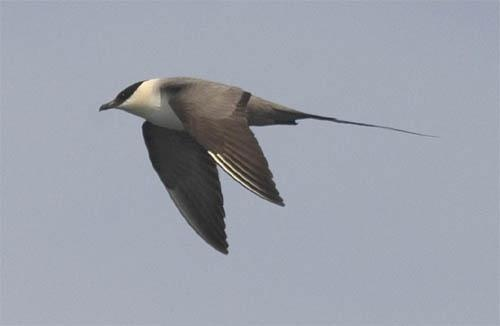bird: (96, 75, 440, 254)
